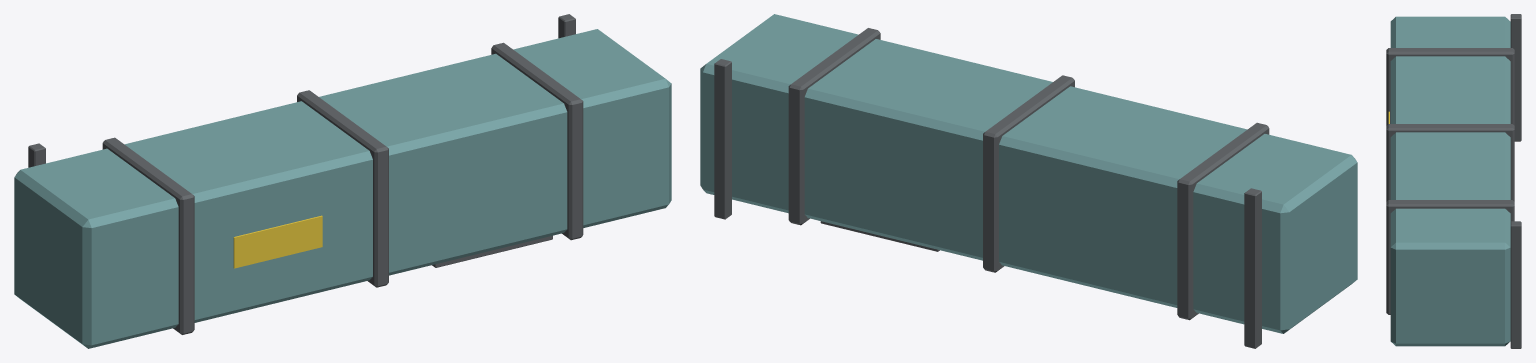
The model's file is air_duct.glb.
3 views of the same model, side by side, from view 1: azimuth 30°, elevation 25°; view 2: azimuth 150°, elevation 25°; view 3: azimuth 270°, elevation 25° (orthographic). The views are drawn at different scales.
Parts seen in each view (by area): view 1: air_duct; view 2: air_duct; view 3: air_duct.
Boxes of the visible parts, <box> form: air_duct: <box>14,14,671,348</box>; air_duct: <box>700,14,1357,348</box>; air_duct: <box>1386,14,1521,348</box>.
Bounding box in the file's own units: 2 × 0.5 × 0.495.
